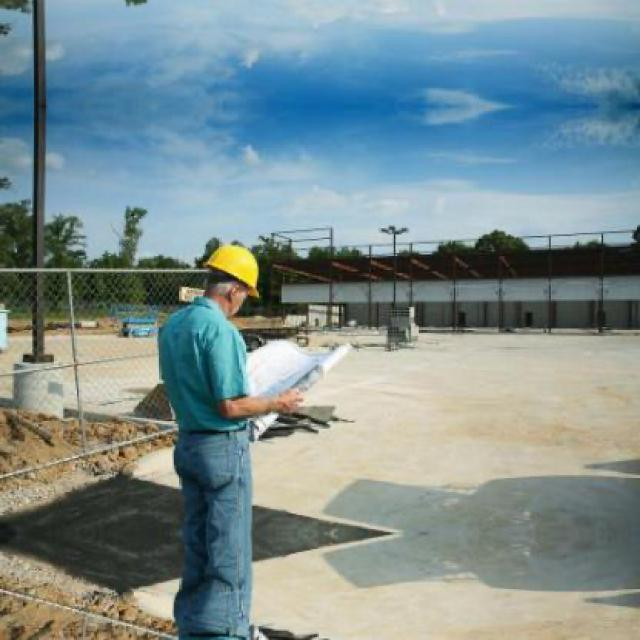con casco: (185, 222, 274, 338)
